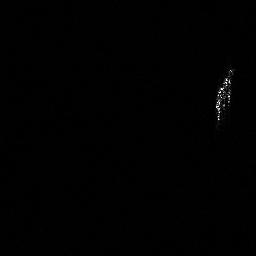ship: (212, 65, 238, 123)
